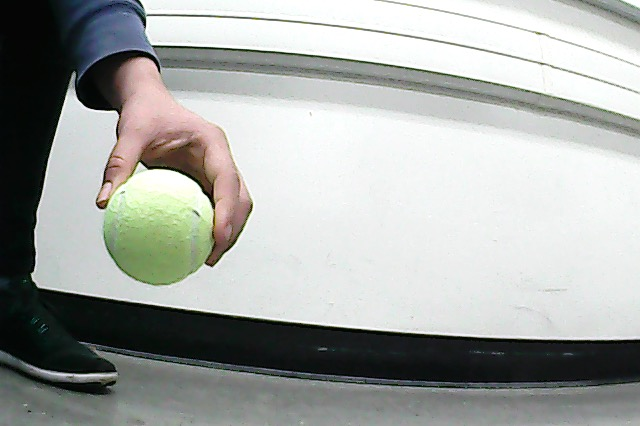ball: (104, 170, 215, 286)
